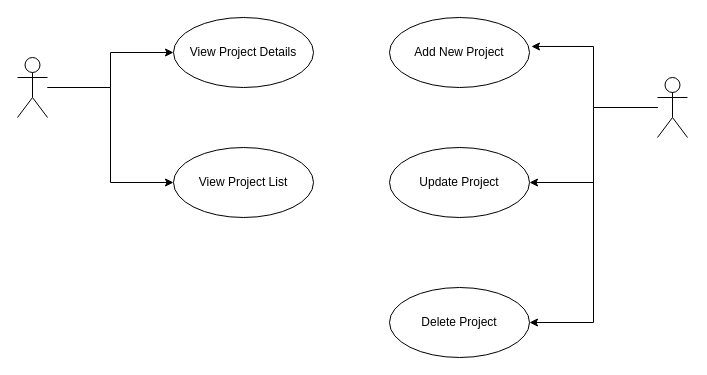
The diagram is 707 pixels wide and 375 high, and some of its shapes have lost their labels. The shapes that lost their labels are listed below. From the top down, each one's centre as x and y in pixels, then its label:
At (x=32, y=87): "User".
At (x=672, y=107): "Admin".
